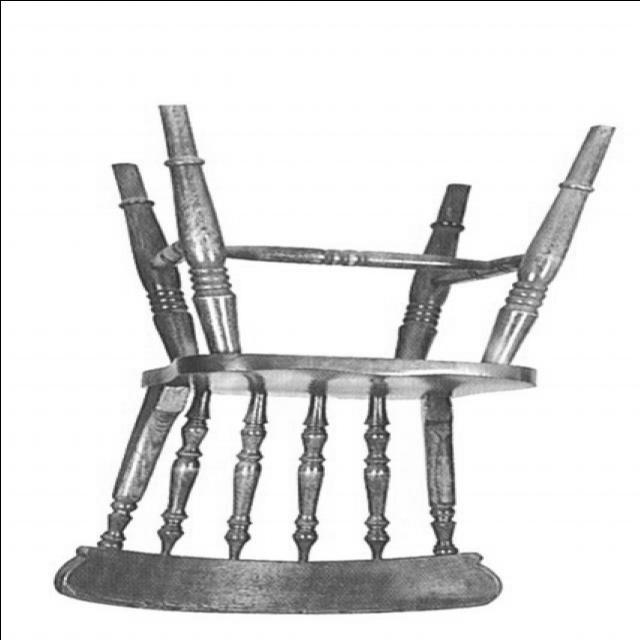chair: (51, 99, 615, 617)
